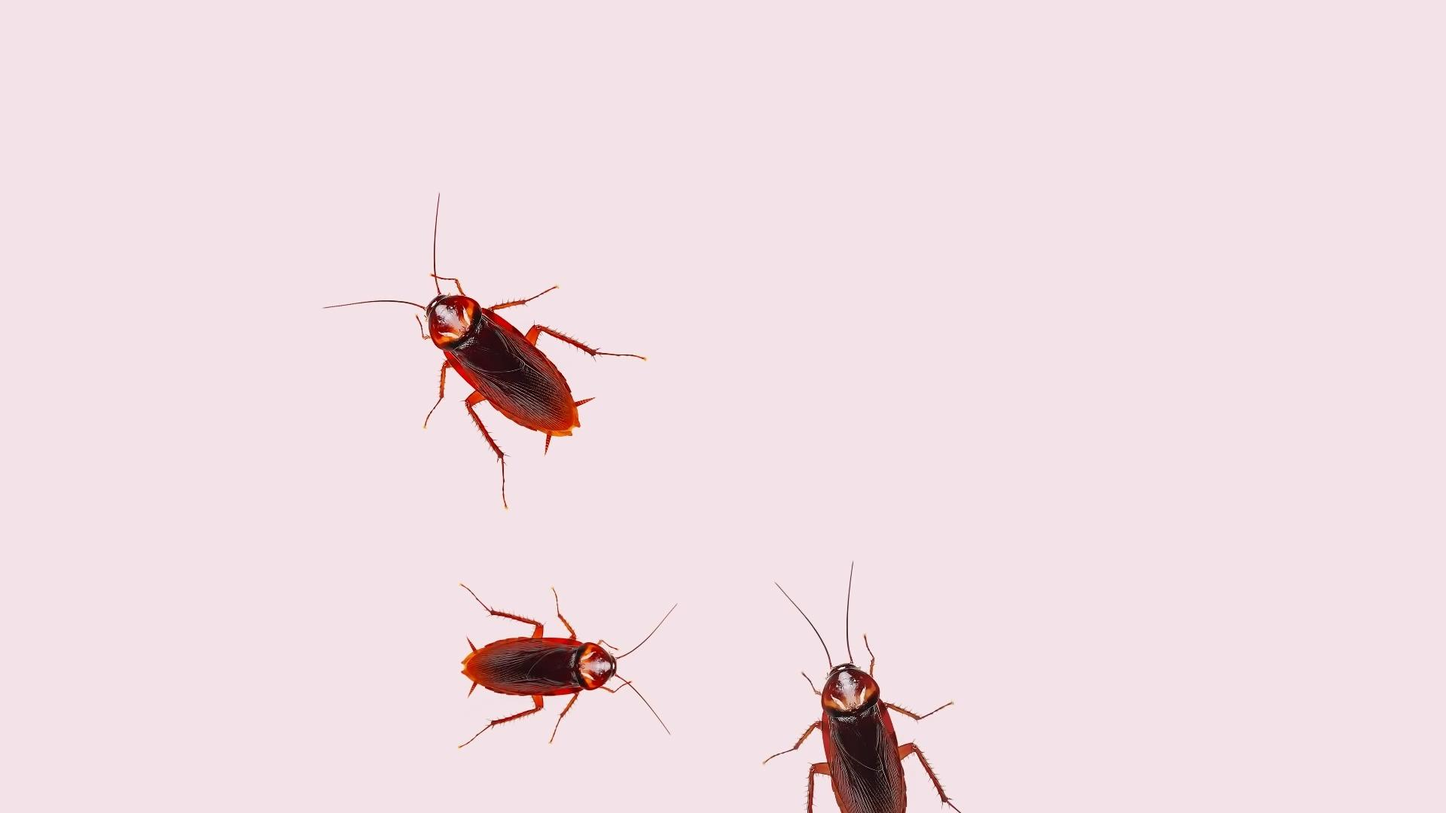cockroach: (401, 224, 597, 471), (769, 604, 948, 813), (445, 595, 662, 723)
